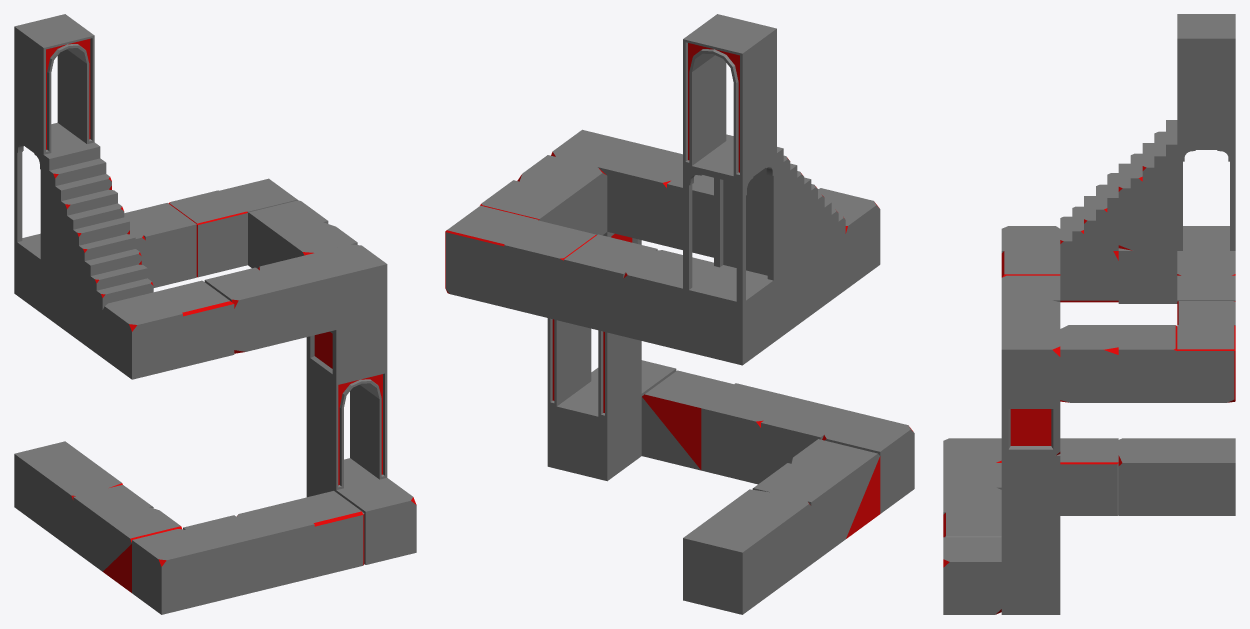
The model's file is Re_Stage2.fbx.
3 renders of one model, left to right at view 1: azimuth 30°, elevation 25°; view 2: azimuth 150°, elevation 25°; view 3: azimuth 270°, elevation 25°, orthographic. The views are drawn at different scales.
Visible parts, largest first — view 1: Door002, Door001, Box056, Box081, Box096, Box095, Box066, Box069, Box057, Box077, Box068, Box058 (+18 smaller); view 2: Door002, Box099, Box080, Box097, Door001, Box087, Box078, Box058, Box077, Box076, Box059, Box068 (+17 smaller); view 3: Door002, Door001, Box067, Box075, Box062, Box061, Box099, Box076, Box066, Box074, Box096, Box095 (+18 smaller).
Part boxes in pixels (x1,y1,x2,y2): Door002: (14, 14, 94, 154); Door001: (306, 362, 387, 489); Box056: (132, 529, 212, 614); Box081: (102, 292, 182, 379); Box096: (43, 142, 124, 229); Box095: (73, 217, 153, 304); Box066: (336, 478, 416, 564); Box069: (204, 267, 285, 353); Box057: (183, 515, 263, 602); Box077: (168, 190, 247, 277); Box068: (258, 255, 336, 342); Box058: (236, 503, 314, 589); Door002: (683, 14, 776, 178); Box099: (683, 513, 776, 614); Box080: (683, 265, 776, 365); Box097: (547, 381, 641, 481); Door001: (547, 318, 641, 418); Box087: (683, 141, 776, 302); Box078: (563, 234, 657, 336); Box058: (701, 383, 794, 484); Box077: (504, 220, 596, 321); Box076: (445, 205, 538, 307); Box059: (641, 370, 733, 470); Box068: (607, 144, 682, 246); Door002: (1177, 14, 1235, 144); Door001: (1001, 454, 1060, 561); Box067: (1001, 325, 1060, 402); Box075: (1118, 325, 1177, 402); Box062: (1118, 438, 1177, 515); Box061: (1060, 438, 1118, 515); Box099: (1177, 438, 1235, 515); Box076: (1177, 325, 1235, 402); Box066: (943, 537, 1001, 614); Box074: (1060, 325, 1118, 402); Box096: (1118, 120, 1177, 197); Box095: (1060, 173, 1118, 250).
Size of the model in its own units: 100 by 180 by 100.
